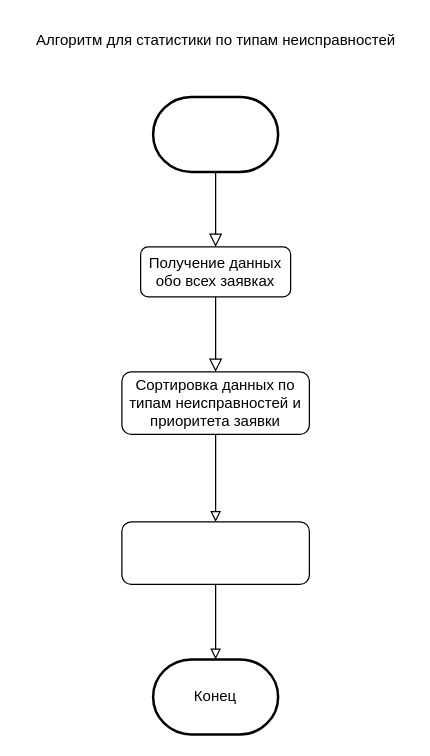
Image size: 430x756. Some labels were removed from this diagram. The centre of each missing label's shape, as x and y in pixels:
Начало: [215,133]
Сохранение данных в документный отчёт: [215,552]
